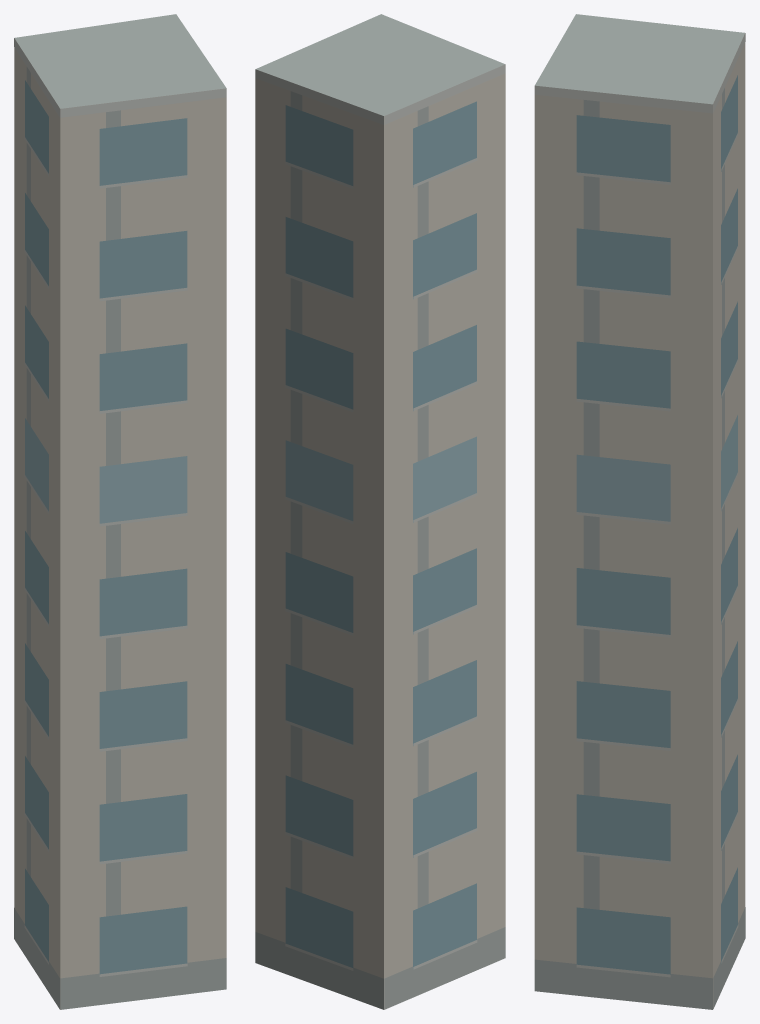
The model's file is survey-upis-32870190.glb.
3 views of the same model, side by side, from view 1: azimuth 30°, elevation 25°; view 2: azimuth 150°, elevation 25°; view 3: azimuth 270°, elevation 25° (orthographic).
Parts seen in each view (by area): view 1: survey-upis-32870190.tmp; view 2: survey-upis-32870190.tmp; view 3: survey-upis-32870190.tmp.
Part boxes in pixels (x1,y1,x2,y2): survey-upis-32870190.tmp: (14, 14, 226, 1009); survey-upis-32870190.tmp: (255, 14, 505, 1009); survey-upis-32870190.tmp: (534, 14, 745, 1009).
Size of the model in its own units: 5.23 by 24.4 by 5.16.
